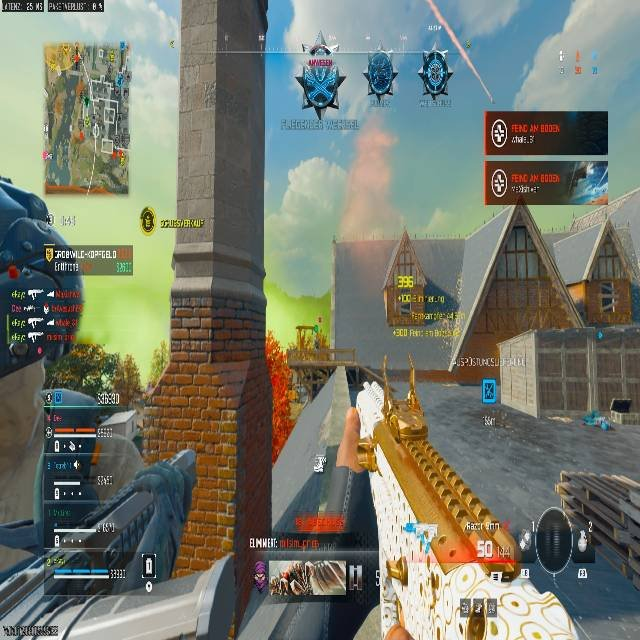head: (518, 507, 588, 574), (89, 434, 143, 503)
player: (294, 44, 345, 120)
